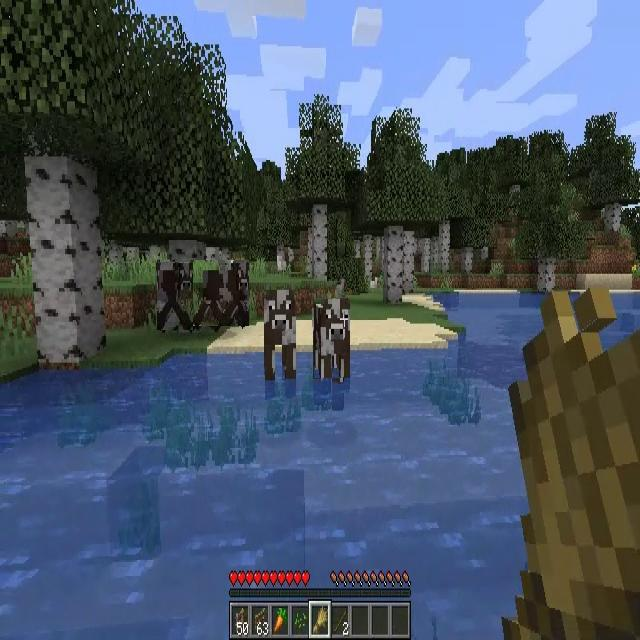cow: (191, 260, 249, 326), (314, 298, 350, 378), (266, 291, 296, 375), (157, 262, 193, 330)
